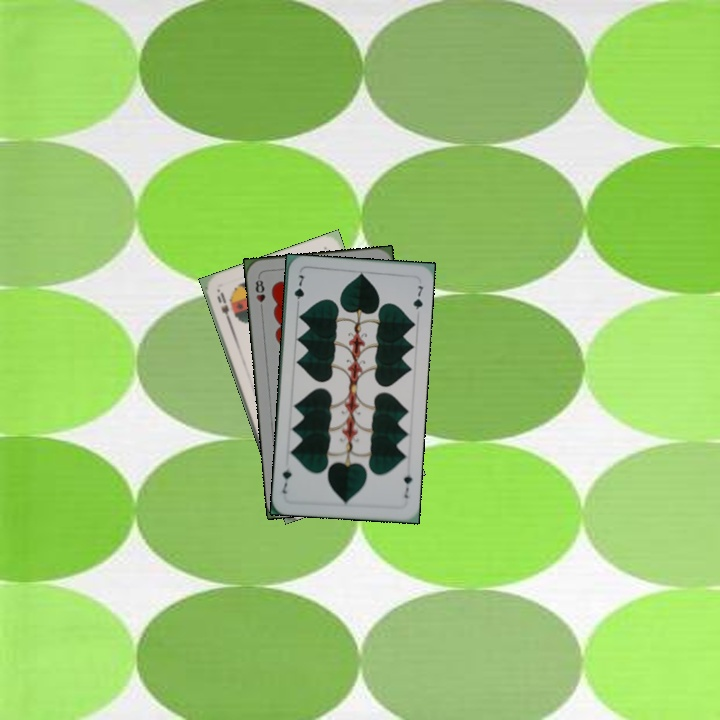G7: (290, 270, 308, 310), (399, 466, 415, 501)
H8: (251, 273, 268, 313)
SO: (213, 287, 234, 327)
